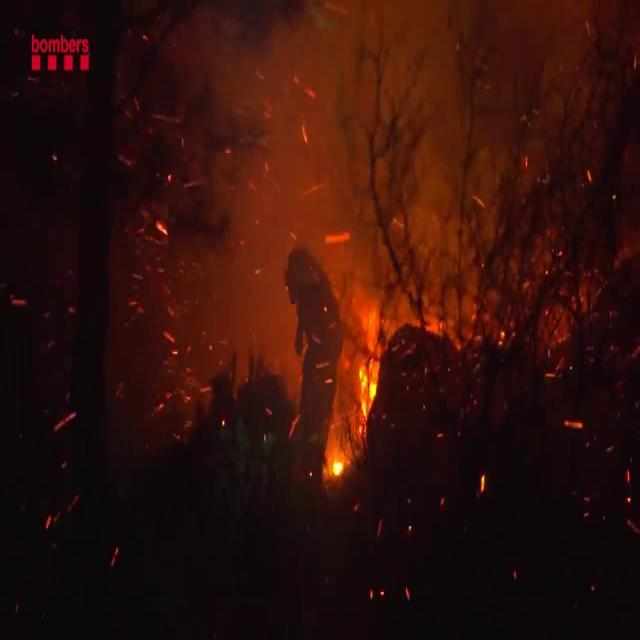Fire: (355, 336, 383, 438), (325, 447, 348, 485)
Smoke: (180, 1, 506, 347)
